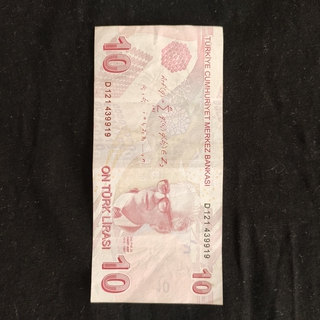10TLBack: (89, 23, 224, 306)
